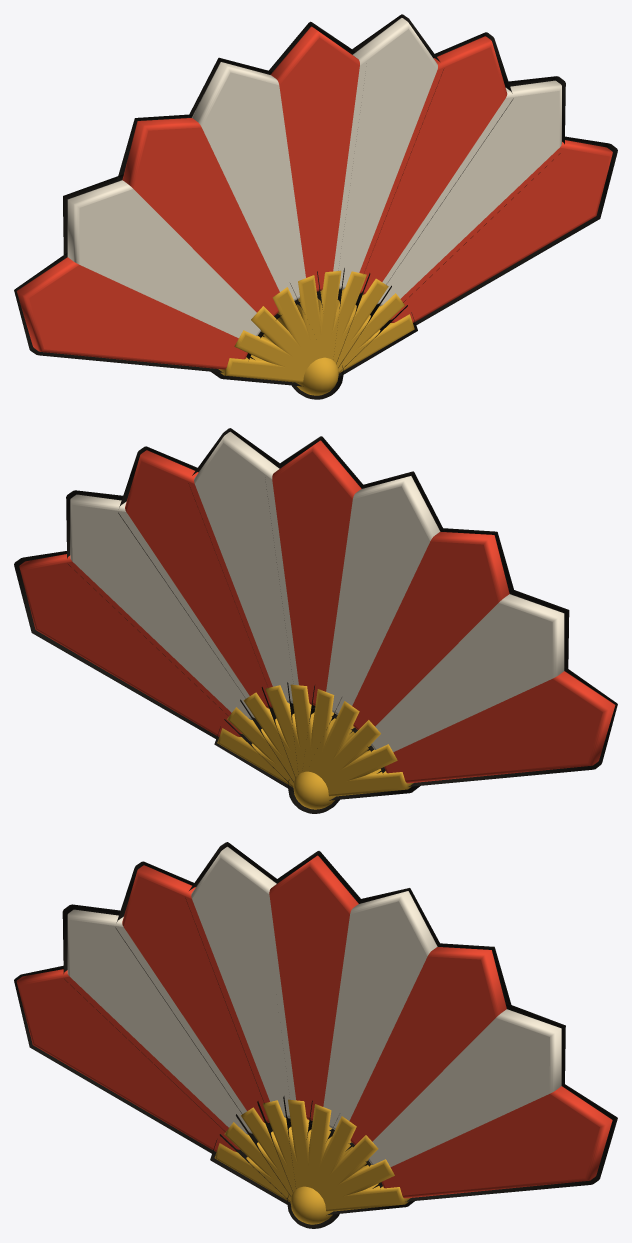
The model's file is fan.glb.
3 views of the same model, one above another, from view 1: azimuth 30°, elevation 25°; view 2: azimuth 150°, elevation 25°; view 3: azimuth 330°, elevation 25° (orthographic).
Parts seen in each view (by area): view 1: Fan, Fan_outline; view 2: Fan, Fan_outline; view 3: Fan, Fan_outline.
Part boxes in pixels (x1=…): Fan: x1=16, y1=18, x2=612, y2=395; Fan_outline: x1=14, y1=14, x2=617, y2=399; Fan: x1=19, y1=431, x2=615, y2=809; Fan_outline: x1=14, y1=428, x2=617, y2=813; Fan: x1=16, y1=846, x2=612, y2=1224; Fan_outline: x1=14, y1=842, x2=617, y2=1228.
Size of the model in its own units: 3.91 by 2.34 by 0.3611.
